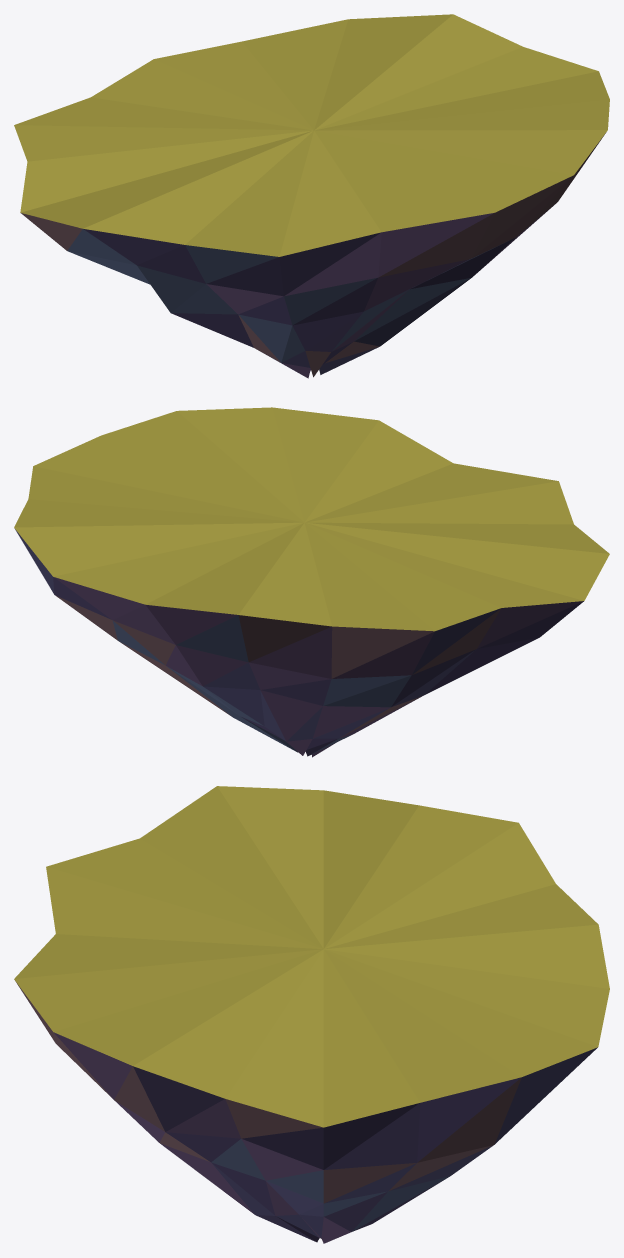
Rendered from ile.glb.
The picture shows the model from 3 angles, top to bottom: view 1: azimuth 30°, elevation 25°; view 2: azimuth 150°, elevation 25°; view 3: azimuth 270°, elevation 25°; orthographic projection. The views are drawn at different scales.
Visible parts, largest first — view 1: Island_Ground, Island_Rock; view 2: Island_Ground, Island_Rock; view 3: Island_Ground, Island_Rock.
Part boxes in pixels (x1,y1,x2,y2): Island_Ground: (14, 14, 609, 256); Island_Rock: (21, 132, 606, 378); Island_Ground: (14, 407, 609, 631); Island_Rock: (14, 528, 583, 757); Island_Ground: (14, 786, 609, 1127); Island_Rock: (15, 981, 597, 1243).
Bounding box in the file's own units: 8.51 × 3.55 × 6.35.
